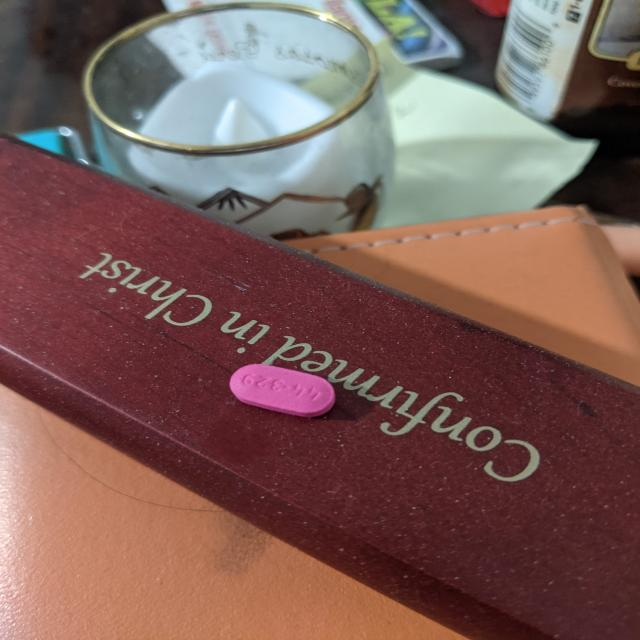non-organic waste: (228, 362, 337, 419)
